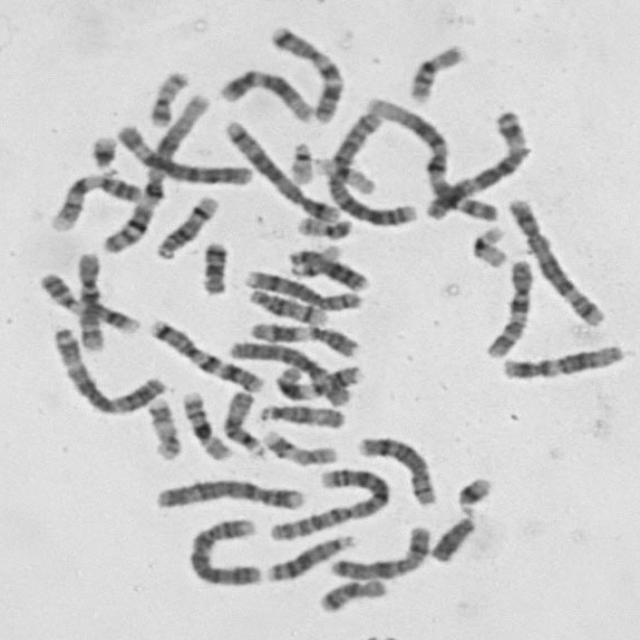A1: (97, 89, 212, 257), (358, 97, 501, 224)
A2: (322, 107, 420, 228), (264, 465, 392, 543)
A3: (428, 107, 535, 216), (48, 324, 168, 417)
B4: (152, 475, 308, 512), (184, 515, 263, 586)
B5: (504, 195, 608, 328), (221, 116, 340, 225)
C10: (463, 253, 542, 367), (65, 250, 118, 355)
C11: (248, 319, 360, 359), (271, 361, 360, 405)
C12: (215, 66, 316, 124), (497, 341, 627, 382)
C6: (113, 121, 254, 187), (224, 338, 354, 407)
C7: (145, 316, 265, 394), (266, 22, 346, 125)
C8: (354, 432, 439, 507), (242, 267, 362, 312)
C9: (36, 269, 142, 335), (47, 170, 145, 234)
D13: (261, 531, 358, 583), (284, 245, 370, 292)
D14: (153, 192, 220, 260), (245, 286, 329, 326)
D15: (220, 387, 266, 459), (256, 400, 347, 430)
E16: (179, 388, 234, 463), (404, 40, 466, 104)
E17: (260, 428, 339, 467), (145, 396, 182, 463)
E18: (315, 575, 389, 616), (197, 240, 230, 296)
F19: (311, 154, 378, 195), (466, 222, 507, 268)
F20: (145, 67, 191, 129), (294, 214, 354, 240)
G21: (452, 472, 494, 514), (86, 133, 118, 171)
G22: (290, 244, 343, 279), (284, 138, 316, 184)
X: (327, 522, 432, 581)
Y: (426, 513, 477, 563)
